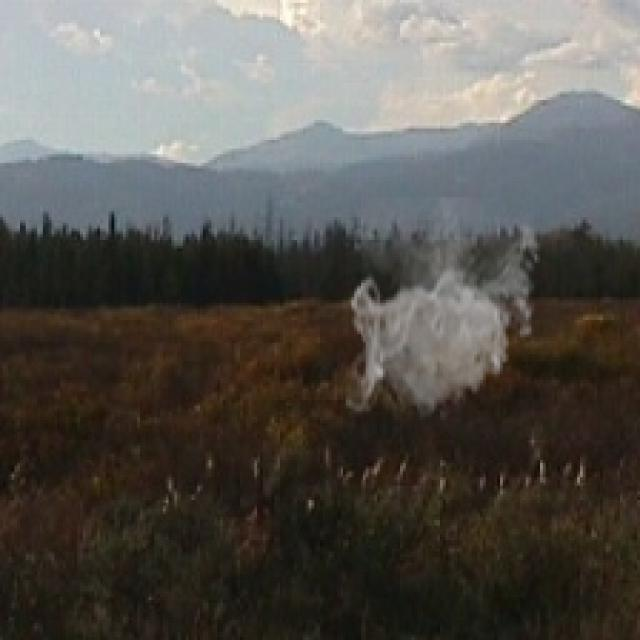Smoke: (346, 197, 546, 420)
